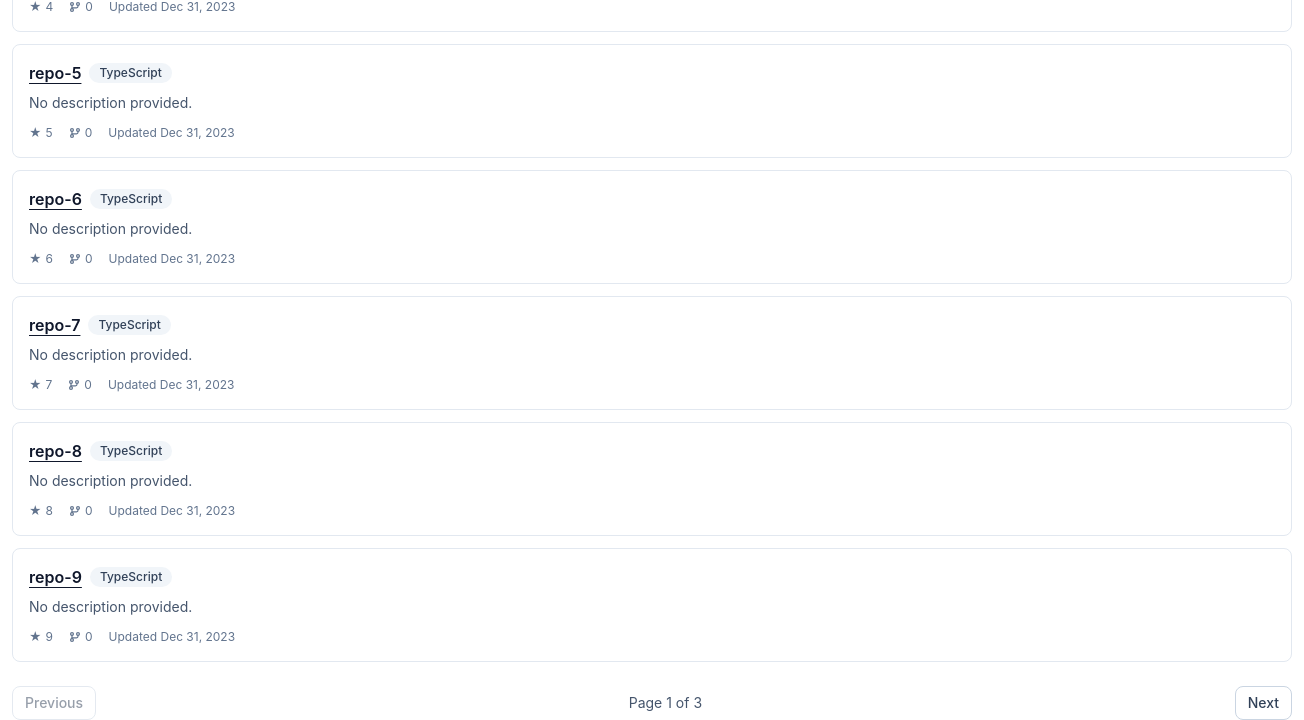
RepositoryExplorer › pagination › shows the next repositories on the next page
(page scrolled)
Click the button "Next". click: {"x": 1263, "y": 703}
box: [1235,686,1292,719]
(page scrolled)
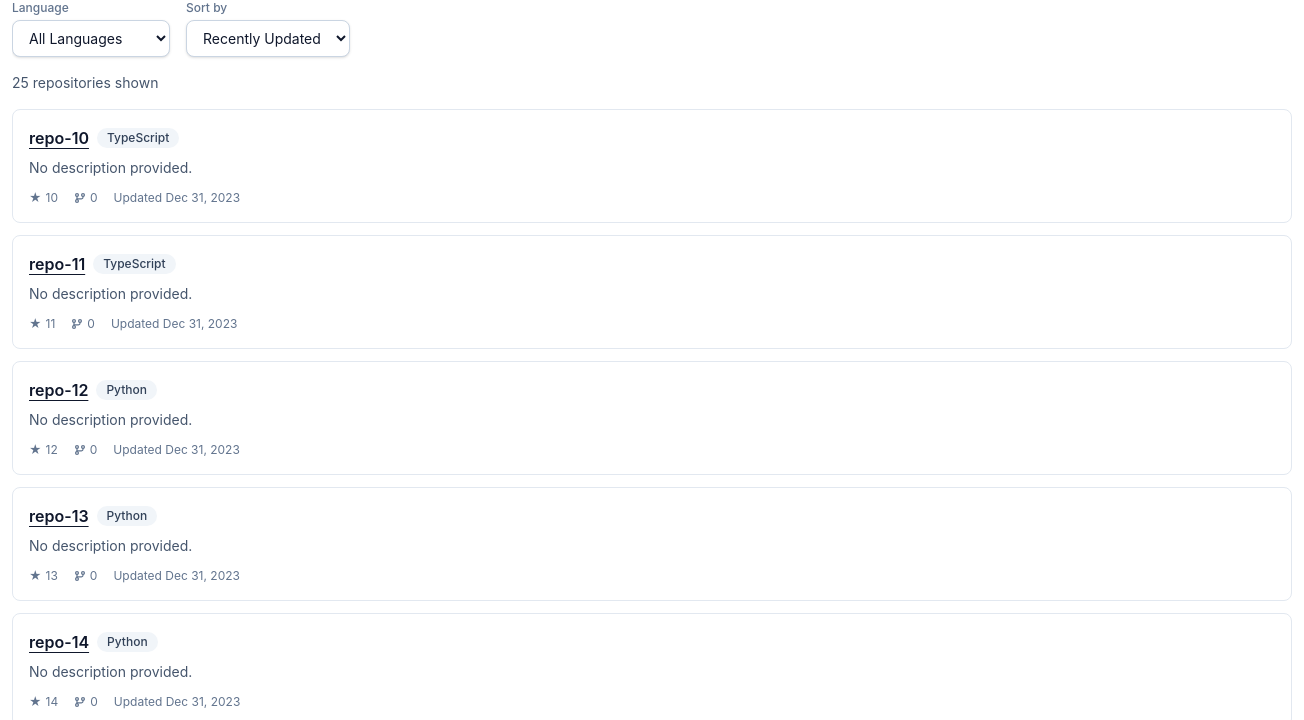
Expected: the link "repo-10" is shown, [29,128,89,148]
